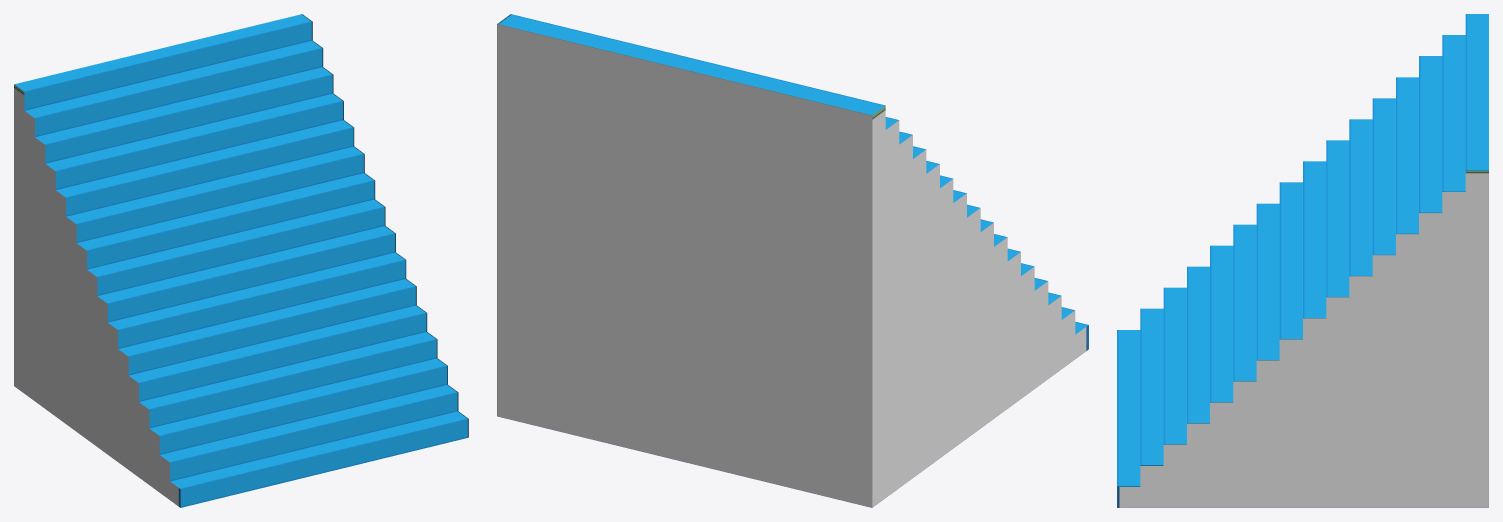
The model's file is MK_Stairs_Trim_C_Wall_A.fbx.
3 views of the same model, side by side, from view 1: azimuth 30°, elevation 25°; view 2: azimuth 150°, elevation 25°; view 3: azimuth 270°, elevation 25° (orthographic). The views are drawn at different scales.
Parts seen in each view (by area): view 1: Stairs_Trim_C_Wall_A; view 2: Stairs_Trim_C_Wall_A; view 3: Stairs_Trim_C_Wall_A.
Part boxes in pixels (x1,y1,x2,y2): Stairs_Trim_C_Wall_A: (14,14,468,507); Stairs_Trim_C_Wall_A: (497,14,1088,507); Stairs_Trim_C_Wall_A: (1117,14,1488,507).
Size of the model in its own units: 180 by 180 by 180.
Materials: 1 (1 with a texture image).
